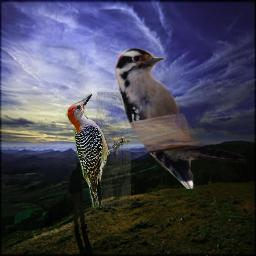Woodpecker: (115, 48, 247, 189), (63, 92, 131, 208)
